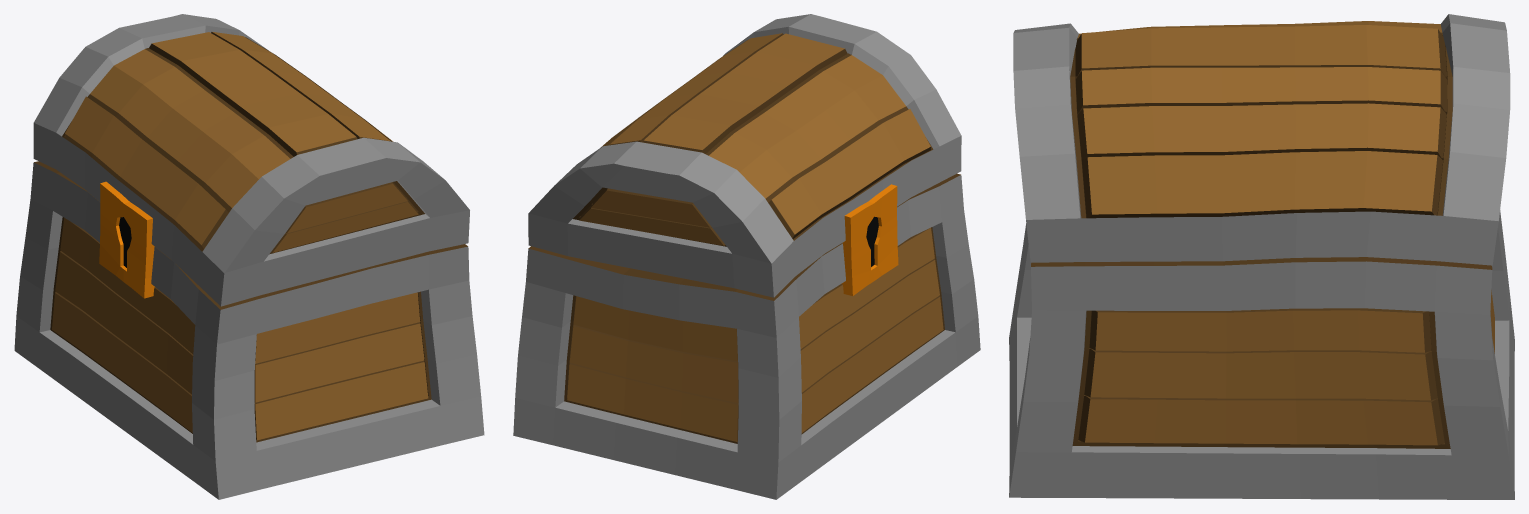
The model's file is Bau.fbx.
The picture shows the model from 3 angles, left to right: view 1: azimuth 30°, elevation 25°; view 2: azimuth 150°, elevation 25°; view 3: azimuth 270°, elevation 25°; orthographic projection. The views are drawn at different scales.
Visible parts, largest first — view 1: Cube; view 2: Cube; view 3: Cube.
Part boxes in pixels (bbox=[...]): Cube: bbox=[14, 14, 484, 499]; Cube: bbox=[513, 14, 980, 499]; Cube: bbox=[1009, 14, 1514, 499].
Bounding box in the file's own units: 153 × 168 × 203.
